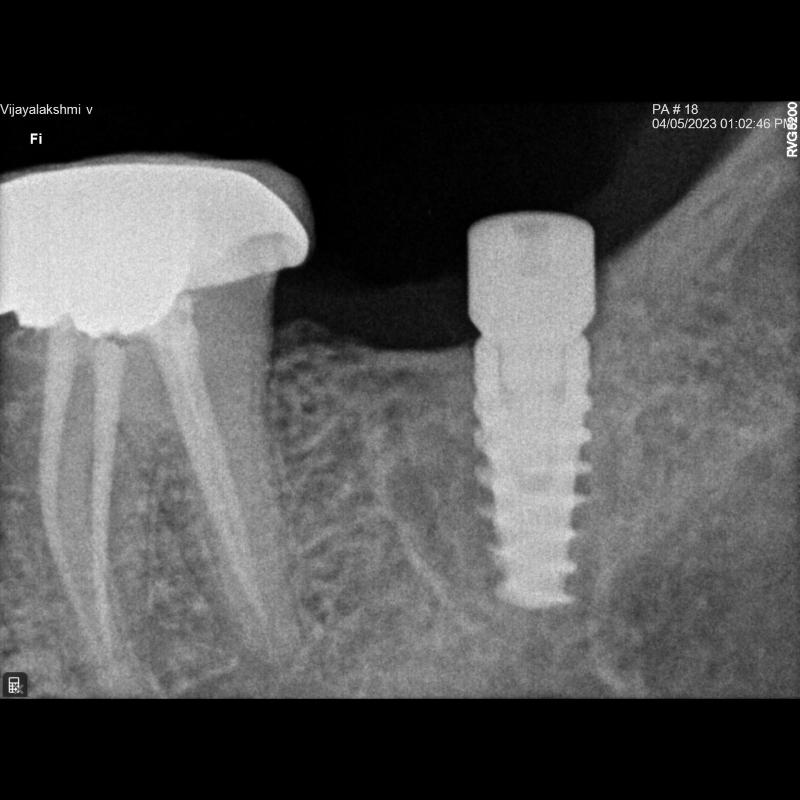NORIS: (445, 332, 613, 622)
